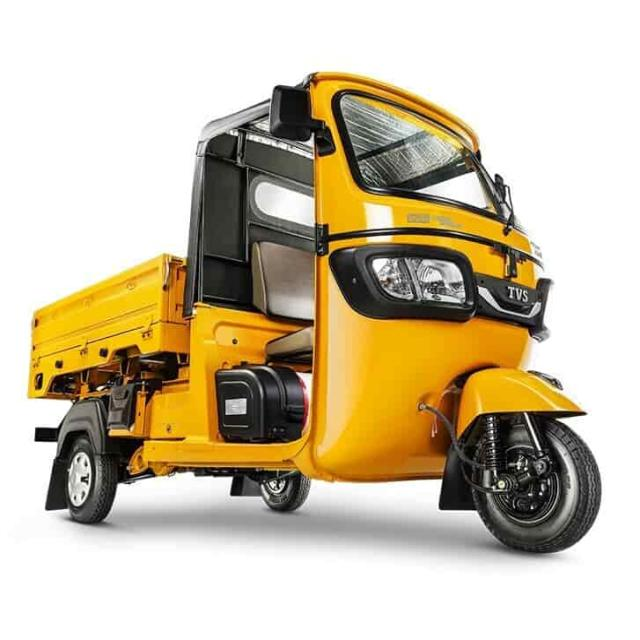autorickshaw: (29, 74, 600, 552)
